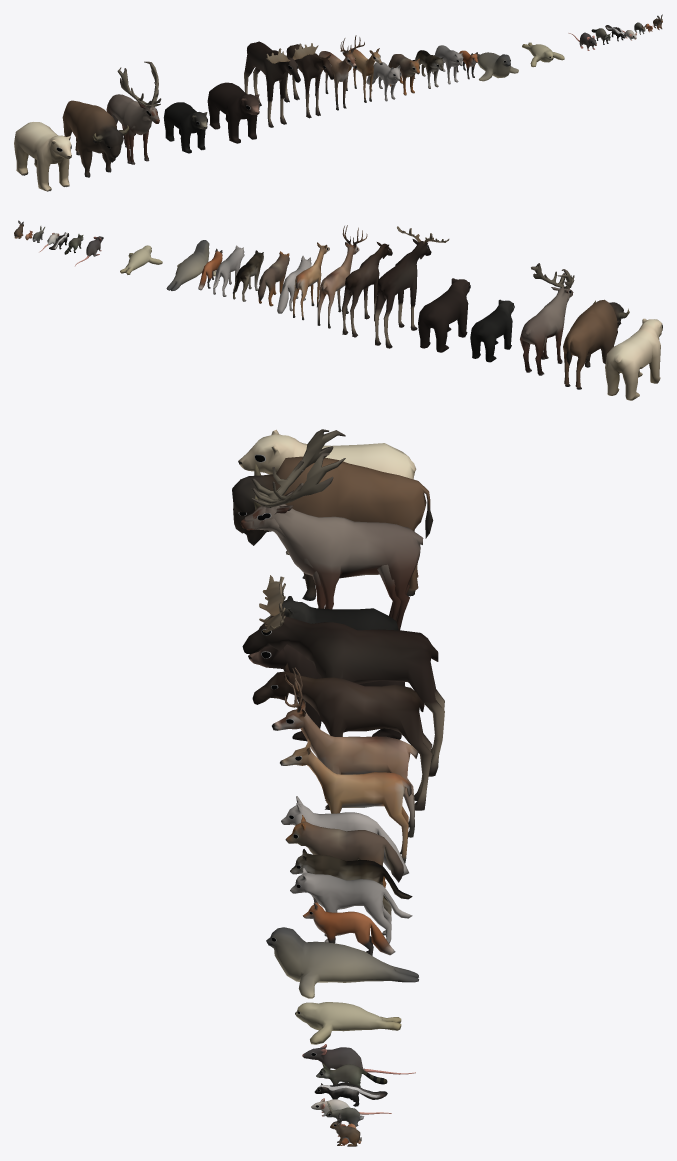
File: FreeAnimals.fbx
The picture shows the model from 3 angles, top to bottom: view 1: azimuth 30°, elevation 25°; view 2: azimuth 150°, elevation 25°; view 3: azimuth 270°, elevation 25°; orthographic projection. The views are drawn at different scales.
Visible parts, largest first — view 1: base (×9), alt598, alt577, alt610, alt575, alt599, alt584, alt585, alt611; view 2: base (×9), alt598, alt610, alt577, alt599, alt575, alt584, alt585, alt611; view 3: base (×10), alt610, alt598, alt599, alt584, alt585, alt577, alt575, alt611.
Part boxes in pixels (bbox=[...]): base (×9): bbox=[14, 42, 564, 191]; alt598: bbox=[244, 41, 318, 127]; alt577: bbox=[207, 82, 260, 143]; alt610: bbox=[106, 61, 161, 163]; alt575: bbox=[163, 102, 207, 153]; alt599: bbox=[284, 44, 334, 118]; alt584: bbox=[315, 35, 364, 110]; alt585: bbox=[346, 48, 382, 102]; alt611: bbox=[111, 82, 160, 164]; base (×9): bbox=[120, 240, 662, 400]; alt598: bbox=[374, 226, 449, 348]; alt610: bbox=[520, 263, 574, 375]; alt577: bbox=[418, 278, 470, 352]; alt599: bbox=[342, 242, 392, 337]; alt575: bbox=[470, 299, 514, 362]; alt584: bbox=[317, 225, 367, 328]; alt585: bbox=[293, 242, 329, 320]; alt611: bbox=[527, 274, 574, 374]; base (×10): bbox=[232, 429, 433, 1074]; alt610: bbox=[244, 429, 423, 630]; alt598: bbox=[242, 575, 444, 776]; alt599: bbox=[252, 662, 432, 810]; alt584: bbox=[272, 667, 418, 837]; alt585: bbox=[280, 738, 411, 862]; alt577: bbox=[248, 644, 404, 741]; alt575: bbox=[264, 596, 398, 630]; alt611: bbox=[240, 460, 400, 620].
Bounding box in the file's own units: 1836 × 263 × 267.
